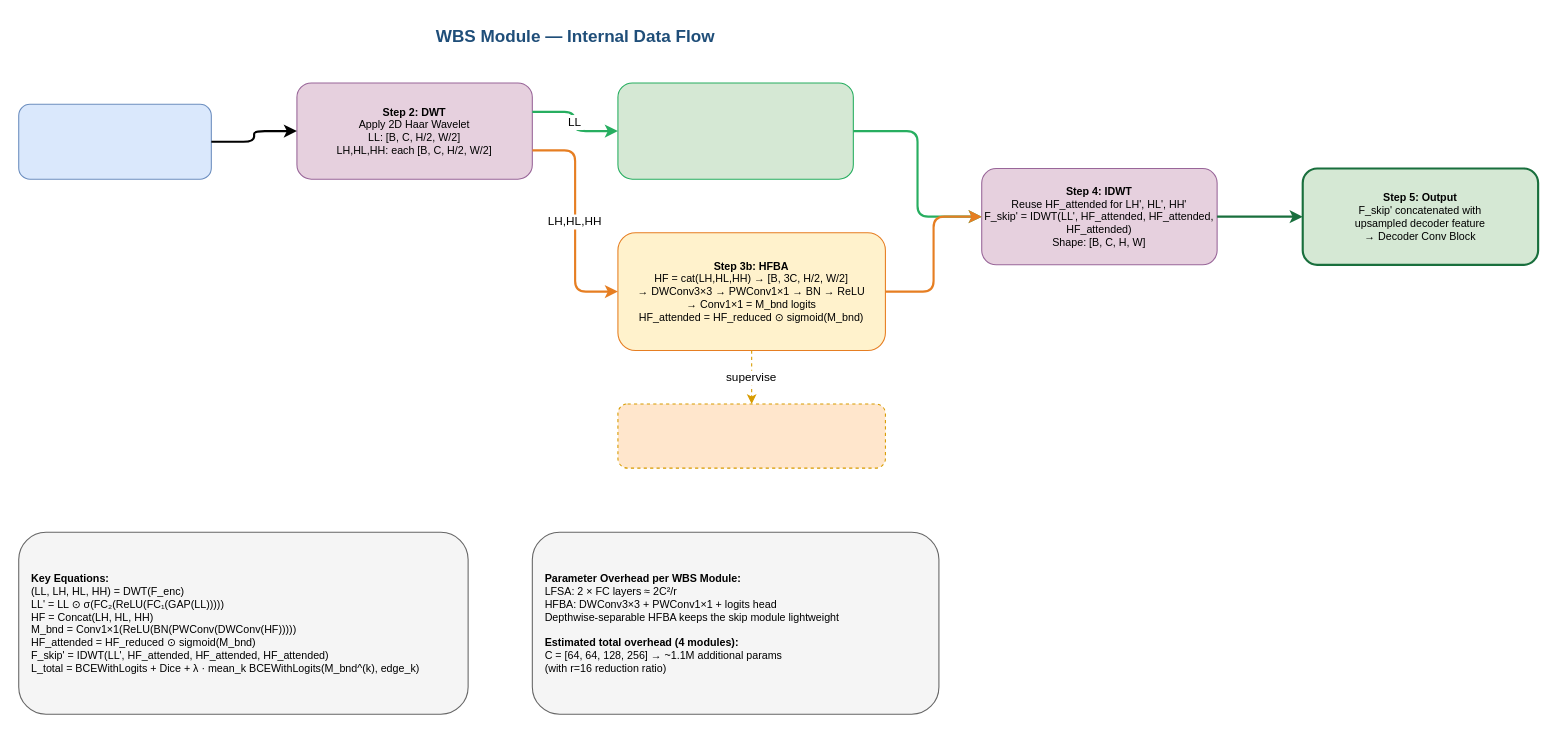
The diagram is 1558 pixels wide and 733 high, and some of its shapes have lost their labels. Here are the shapes that lost their labels. From the top down, the box of each, then its label:
(18, 103, 211, 179): Step 1: Input Encoder feature F_enc Shape: [B, C, H, W]
(617, 82, 853, 179): Step 3a: LFSA LL → GAP → FC → ReLU → FC → σ Channel weights w ∈ R^C LL' = LL ⊙ w
(617, 403, 885, 468): Boundary GT (training only) BCEWithLogits(M_bnd, resized edge GT)
